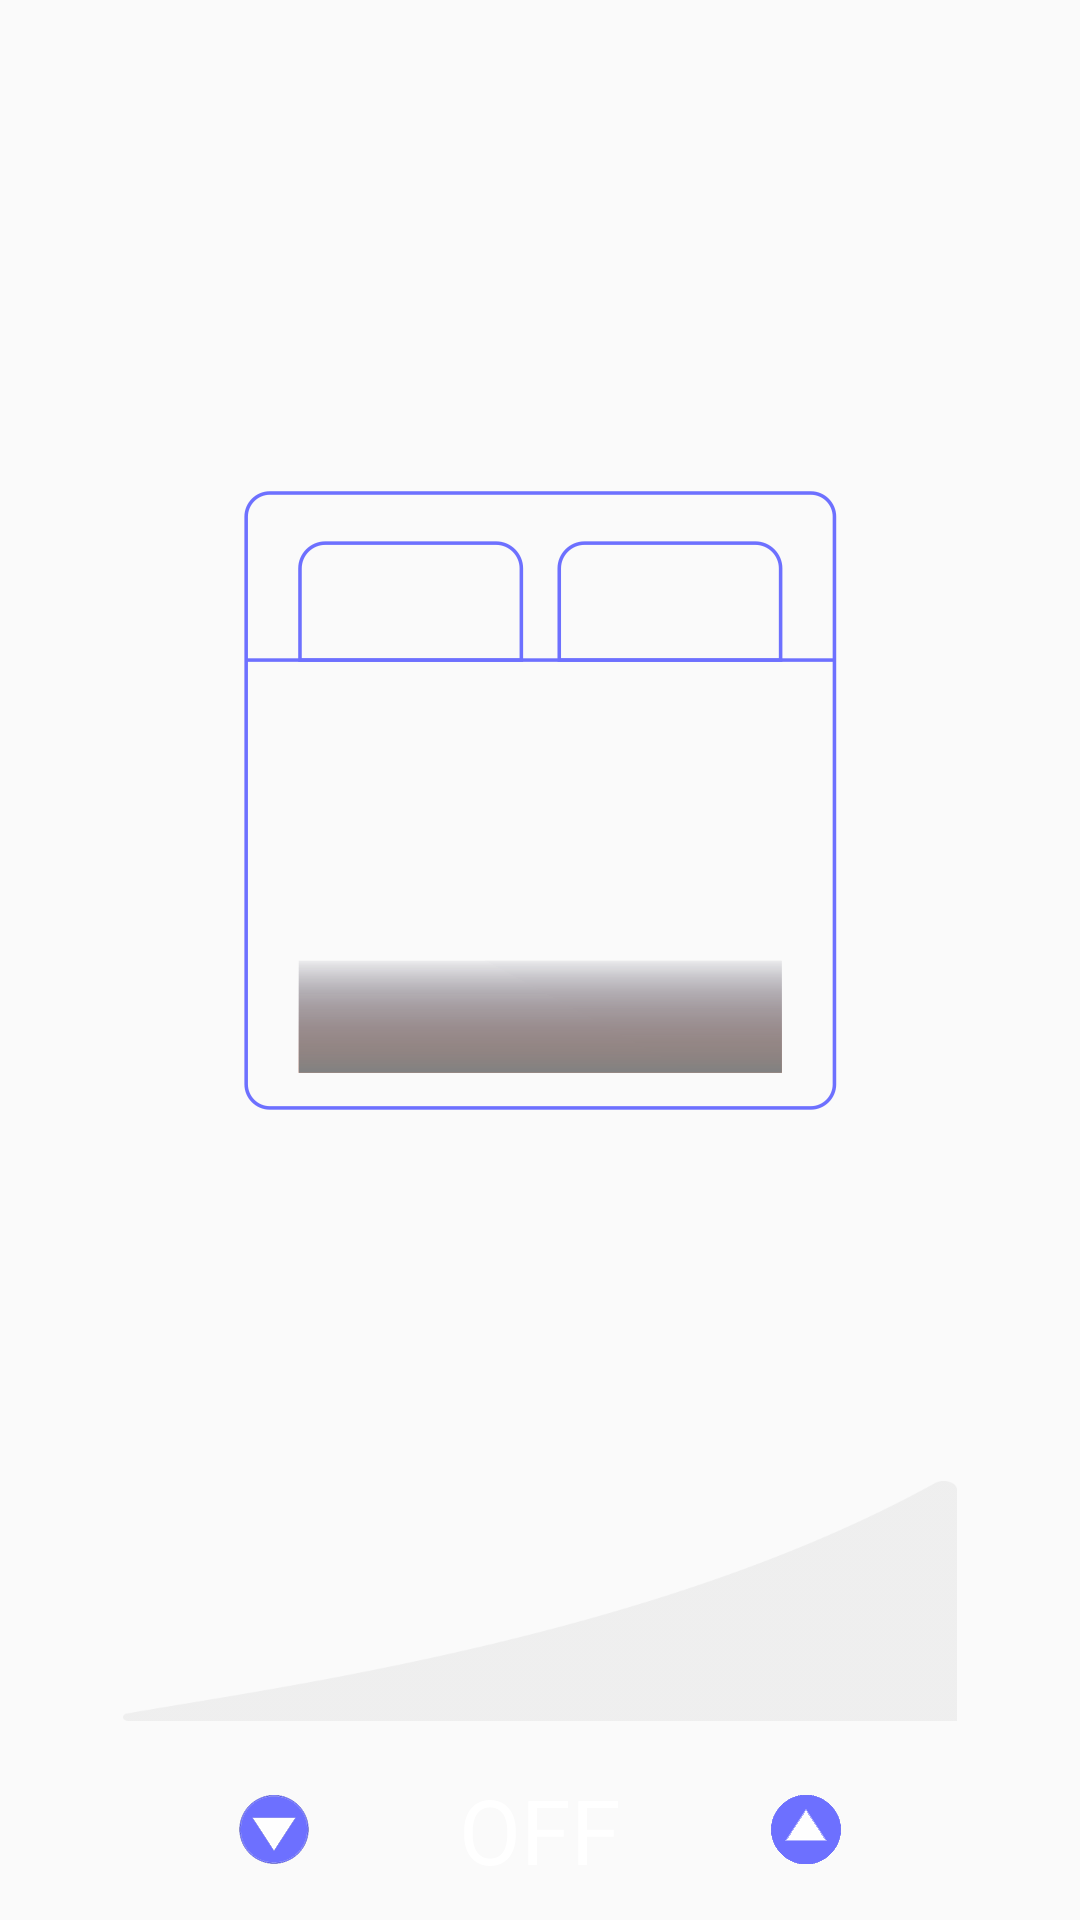

Where icons sit on this 1080w x 1920h app screen, as (x1, y1, x2, y2):
add: (771, 1795, 841, 1864)
reduce: (239, 1795, 309, 1864)
